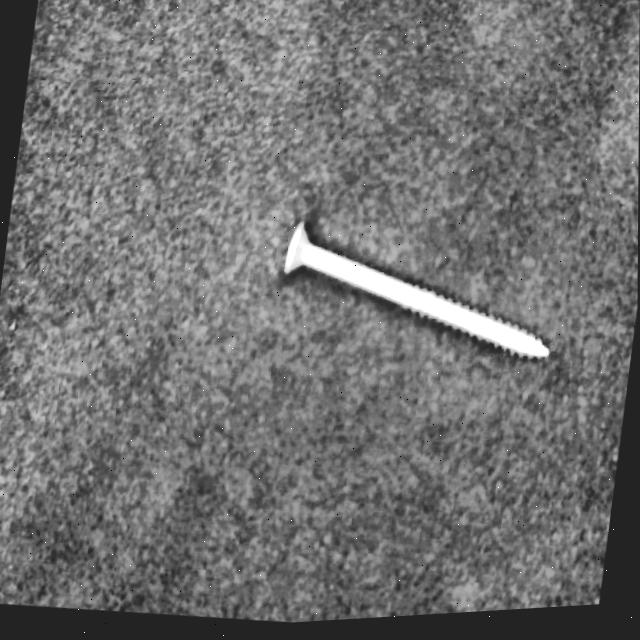Wood screw: (272, 207, 564, 379)
